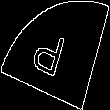P_S: (35, 24, 75, 86)
